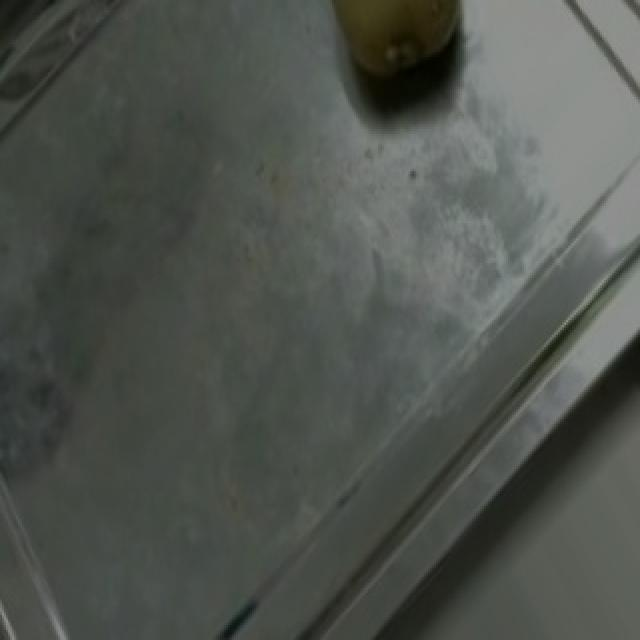Fruit: (288, 0, 500, 134)
